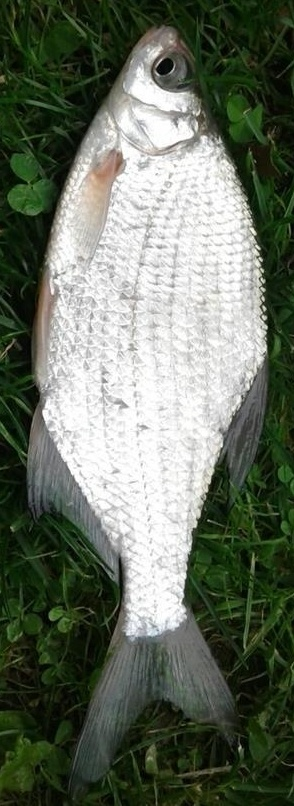Blicca bjoerkna: (20, 20, 274, 786)
